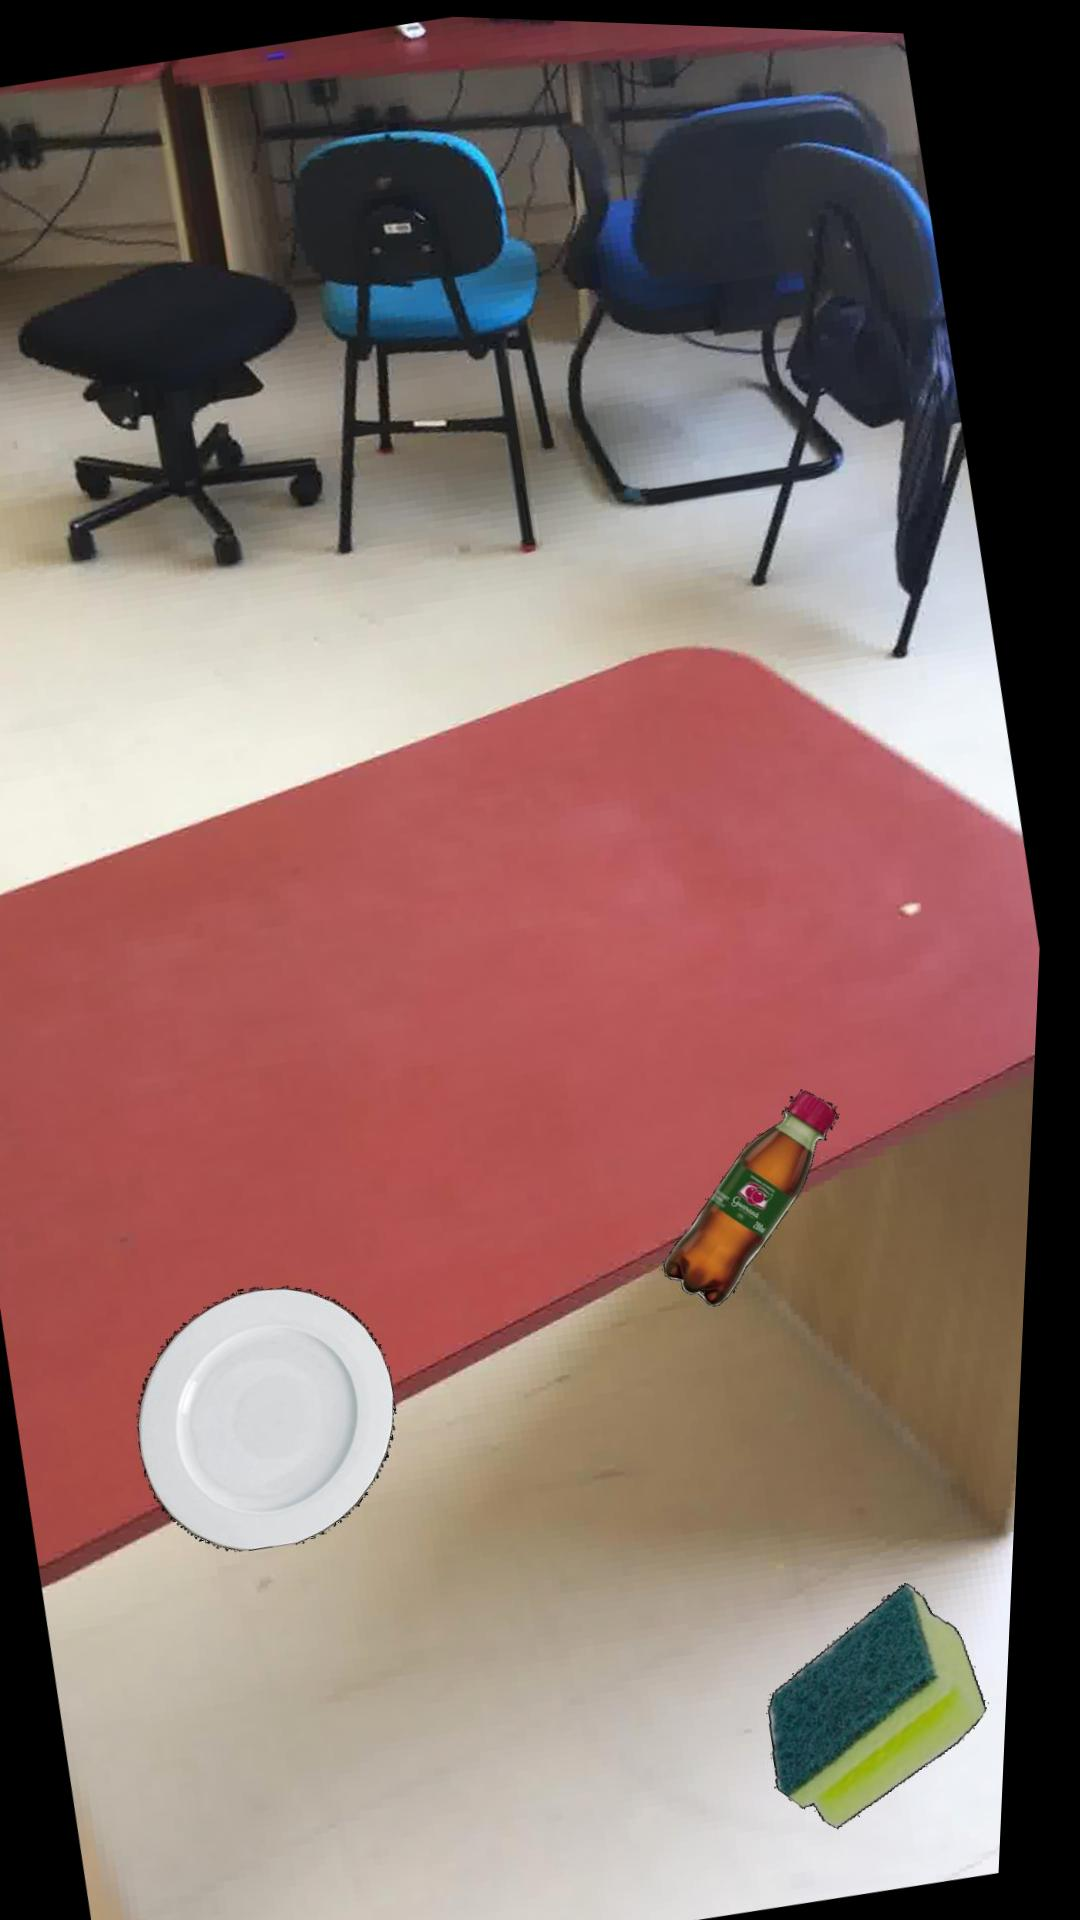guarana: (673, 1081, 845, 1298)
plate: (148, 1282, 407, 1547)
sponge: (781, 1573, 1000, 1820)
